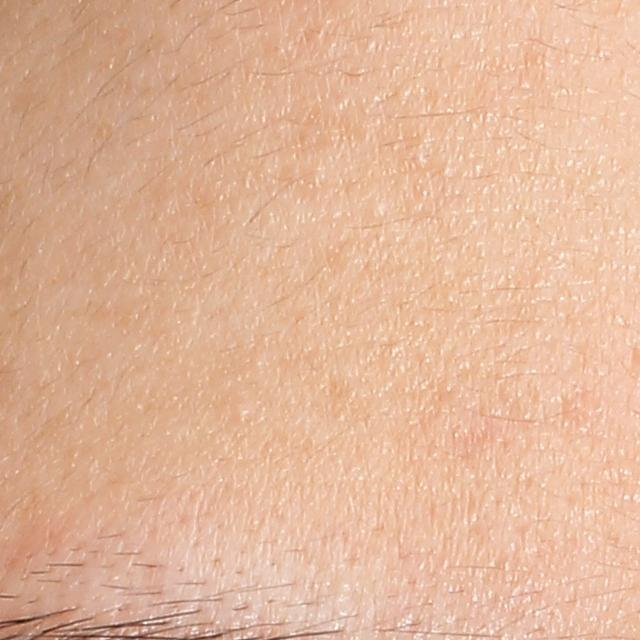comedo: (228, 401, 254, 426), (364, 199, 385, 220)
